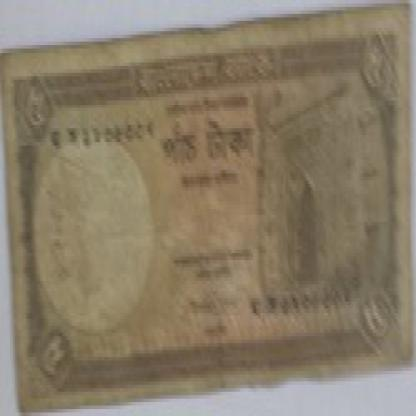Five Taka: (156, 118, 263, 170), (358, 288, 401, 354), (15, 76, 55, 142), (359, 31, 393, 108), (33, 326, 70, 385)
